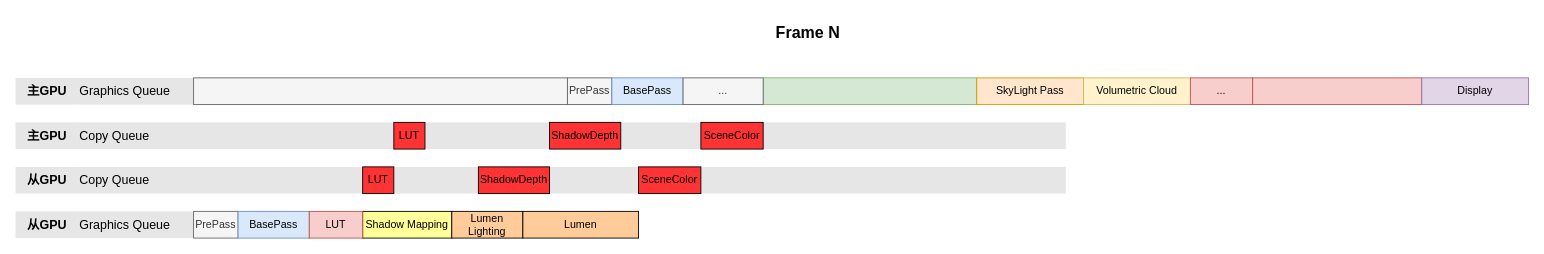
Some shapes in this 1544 by 254 pixel diagram are drawn without their labels. The centre of each missing label's shape, as x and y in pixels:
Frame N-1: [380,91]
Lighting Pass: [869,91]
Post Processing: [1337,91]
